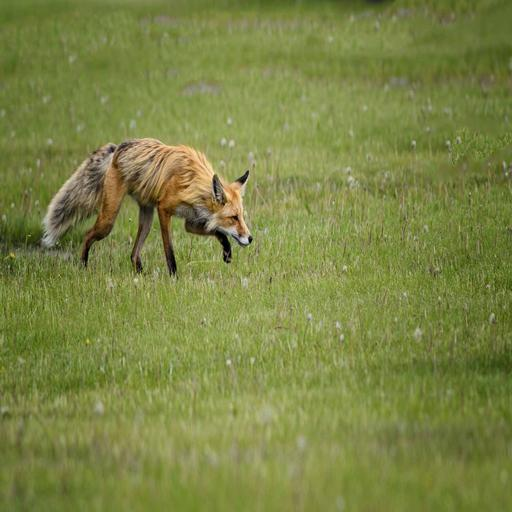Fox: (36, 116, 260, 288)
